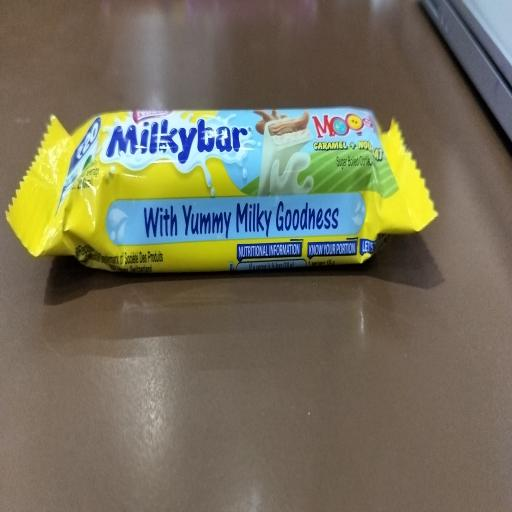chocolate: (52, 110, 390, 278)
milky-bar: (106, 111, 252, 180)
